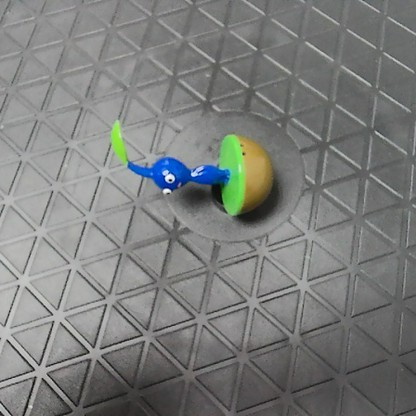leafairy: (105, 115, 276, 217)
